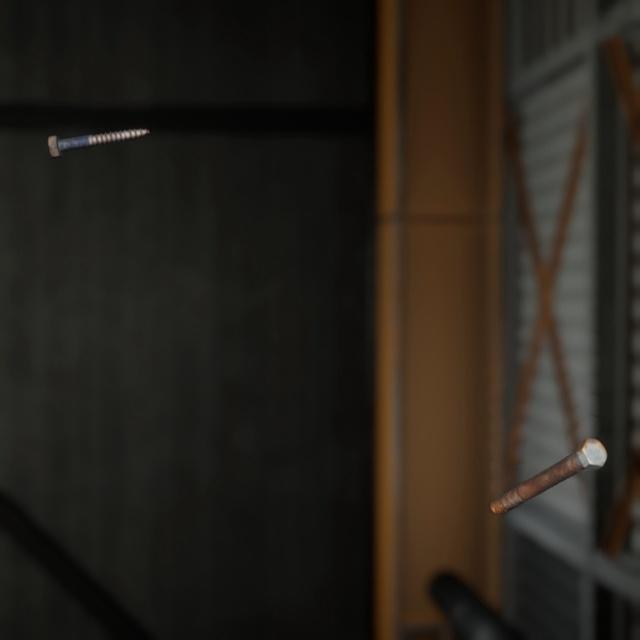bolt: (485, 412, 611, 499), (43, 111, 154, 149)
